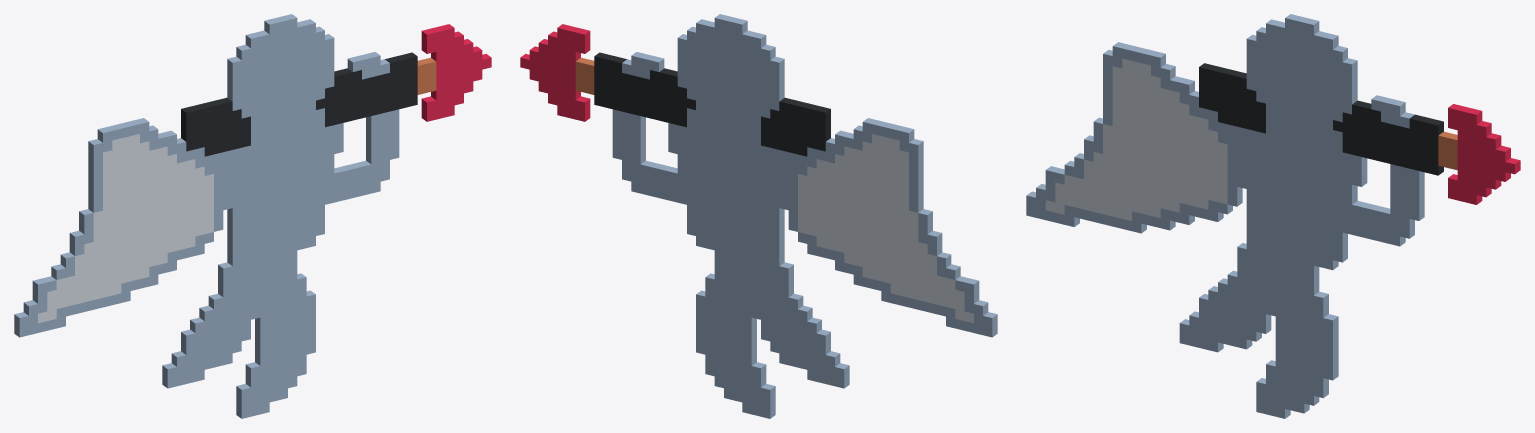
File: RocketCupid.fbx
3 views of the same model, side by side, from view 1: azimuth 30°, elevation 25°; view 2: azimuth 150°, elevation 25°; view 3: azimuth 330°, elevation 25° (orthographic). The views are drawn at different scales.
Parts seen in each view (by area): view 1: generated; view 2: generated; view 3: generated.
Boxes of the visible parts, bbox=[...] form: generated: bbox=[14, 14, 491, 418]; generated: bbox=[520, 14, 997, 418]; generated: bbox=[1026, 14, 1520, 418].
Size of the model in its own units: 510 by 400 by 10.
